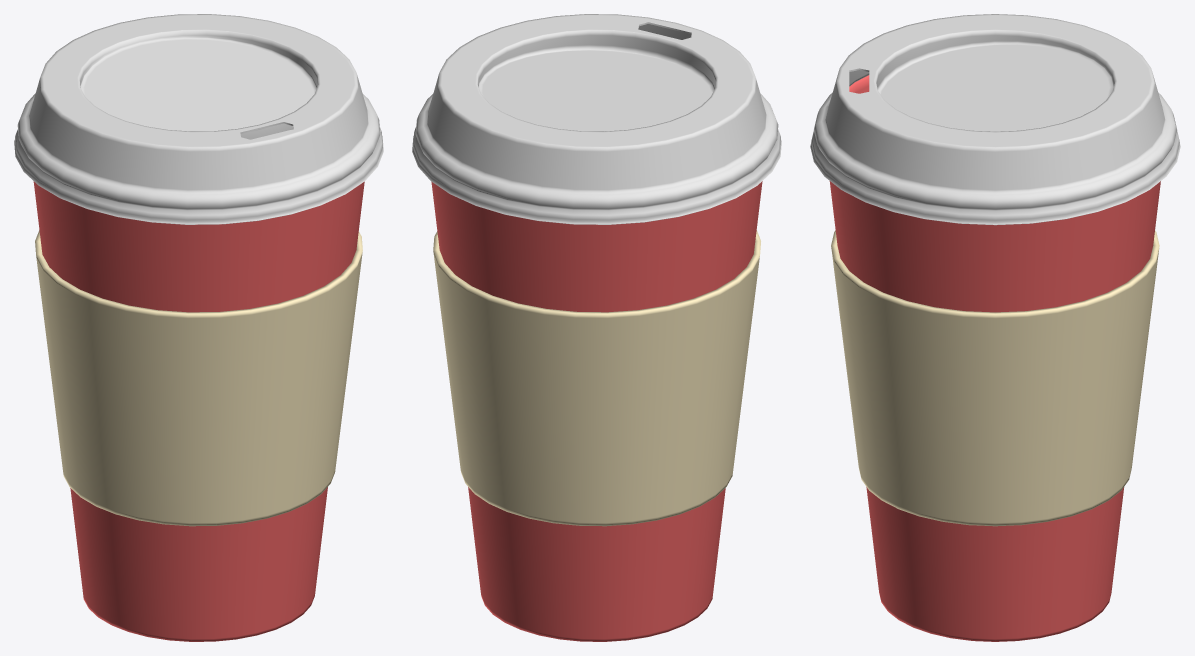
File: coffee_shop_cup-compressed.glb
3 renders of one model, left to right at view 1: azimuth 30°, elevation 25°; view 2: azimuth 150°, elevation 25°; view 3: azimuth 270°, elevation 25°, orthographic.
Parts seen in each view (by area): view 1: Object_9, Object_7, Object_5; view 2: Object_9, Object_7, Object_5; view 3: Object_9, Object_7, Object_5.
Boxes of the visible parts, x1,y1,x2,y2 form: Object_9: (35,230,362,526); Object_7: (14,14,383,224); Object_5: (33,181,364,641); Object_9: (433,230,760,526); Object_7: (412,14,781,224); Object_5: (431,181,762,641); Object_9: (831,230,1159,526); Object_7: (810,14,1180,225); Object_5: (829,75,1160,641).
Size of the model in its own units: 0.7439 by 1.13 by 0.7439.
